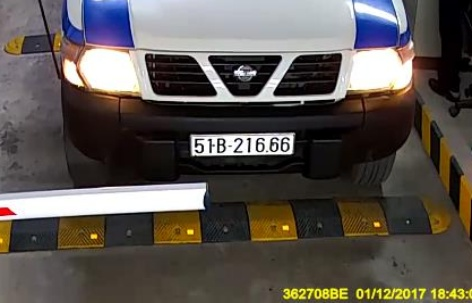plate: (183, 127, 303, 158)
